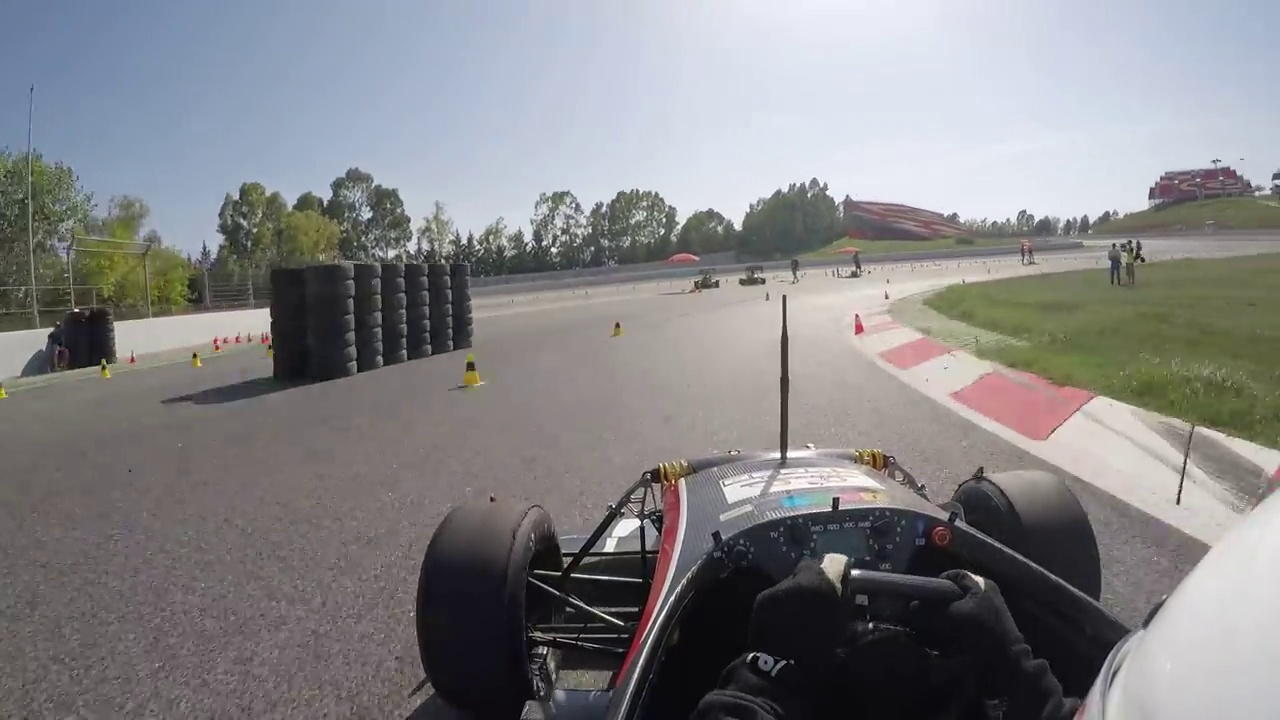Cone: (459, 350, 486, 389)
